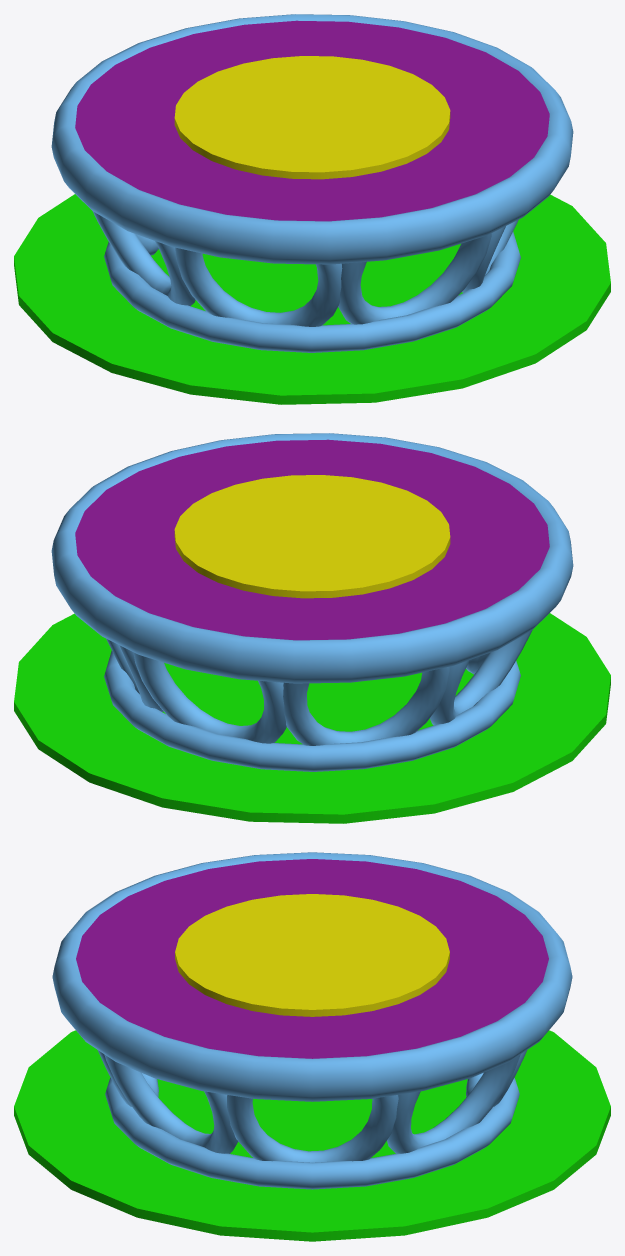
File: tram_1.fbx
3 renders of one model, top to bottom at view 1: azimuth 30°, elevation 25°; view 2: azimuth 150°, elevation 25°; view 3: azimuth 270°, elevation 25°, orthographic.
Visible parts, largest first — view 1: tram_1; view 2: tram_1; view 3: tram_1.
Part boxes in pixels (box(x1,y1,x2,y2)): tram_1: box(14, 14, 610, 404); tram_1: box(14, 433, 610, 823); tram_1: box(14, 852, 610, 1241).
Bounding box in the file's own units: 2.88 × 0.8708 × 2.88.
